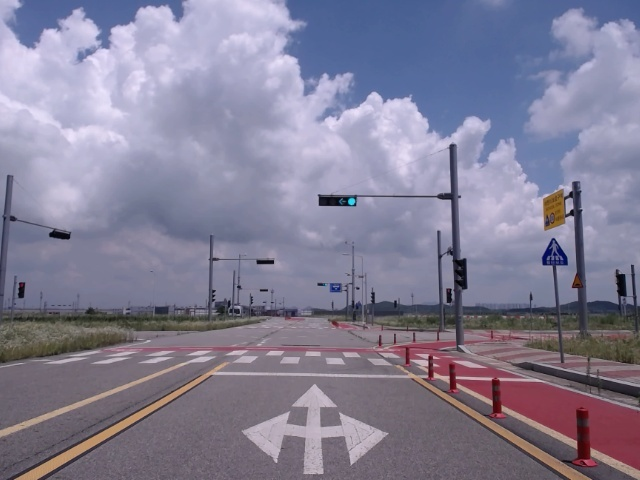all_green_4: (320, 194, 359, 207)
